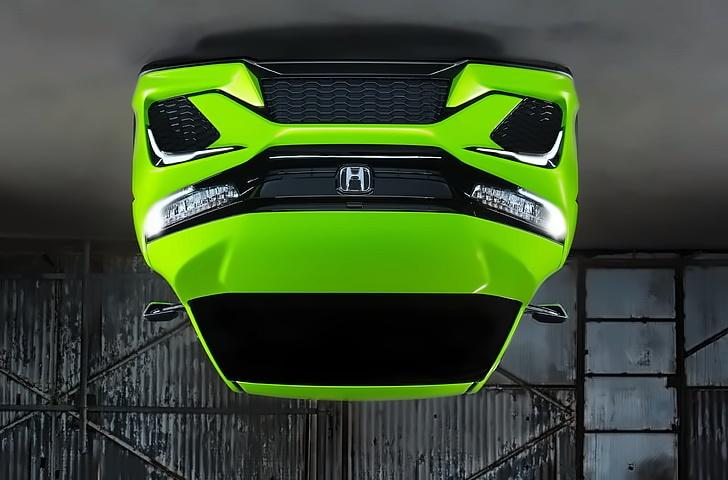Car hood: (145, 206, 563, 300)
Front bumper: (120, 49, 584, 200)
Headlight - -L-: (144, 174, 246, 241)
Headlight - -R-: (460, 179, 568, 247)
Side mirror - -L-: (141, 297, 183, 329)
Side mirror - -R-: (525, 299, 572, 329)
